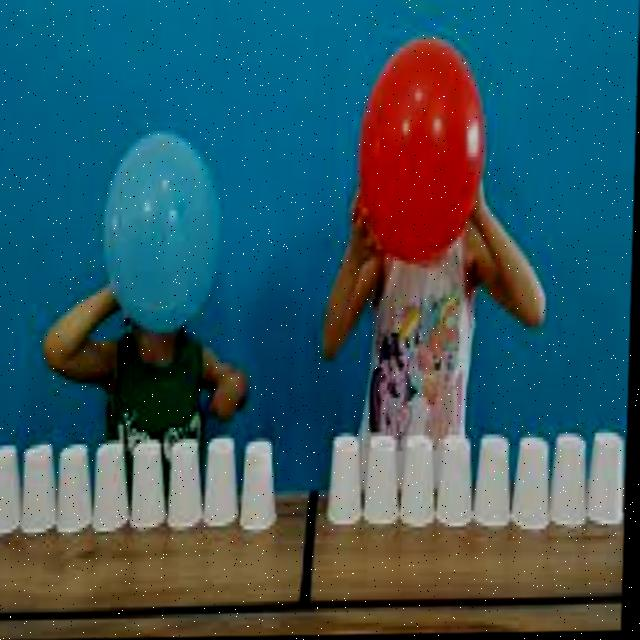balloon: (358, 38, 483, 256), (101, 130, 231, 325)
